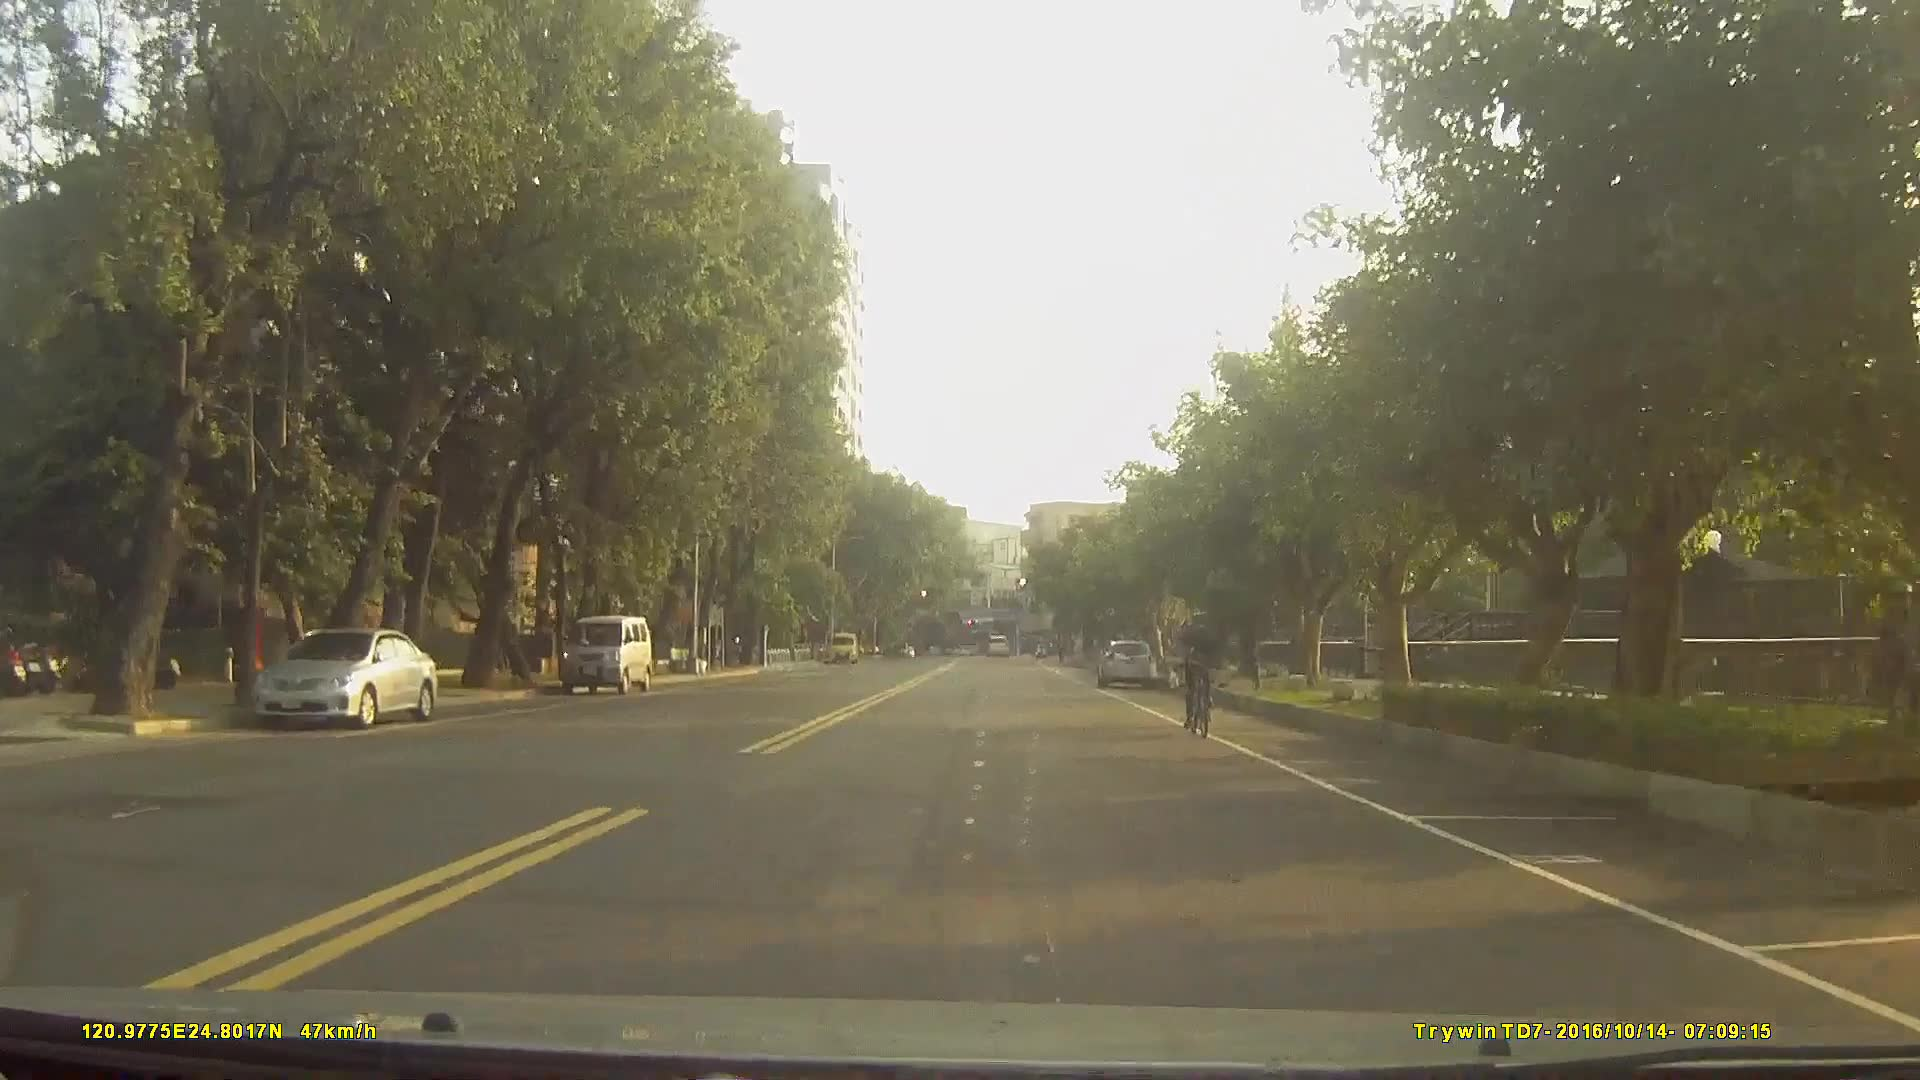rider: (1182, 608, 1221, 734)
vehicle: (249, 624, 441, 731), (559, 611, 653, 693), (1096, 639, 1161, 693), (983, 628, 1010, 656)
